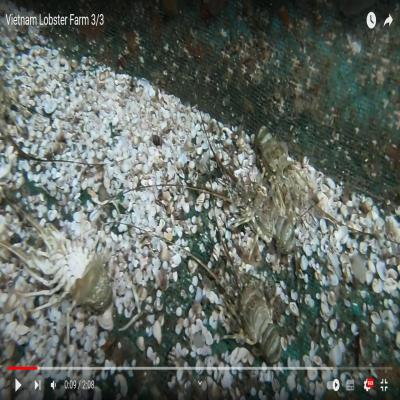lobster: (218, 259, 282, 361), (45, 232, 110, 319), (234, 183, 295, 256), (256, 132, 297, 194)
